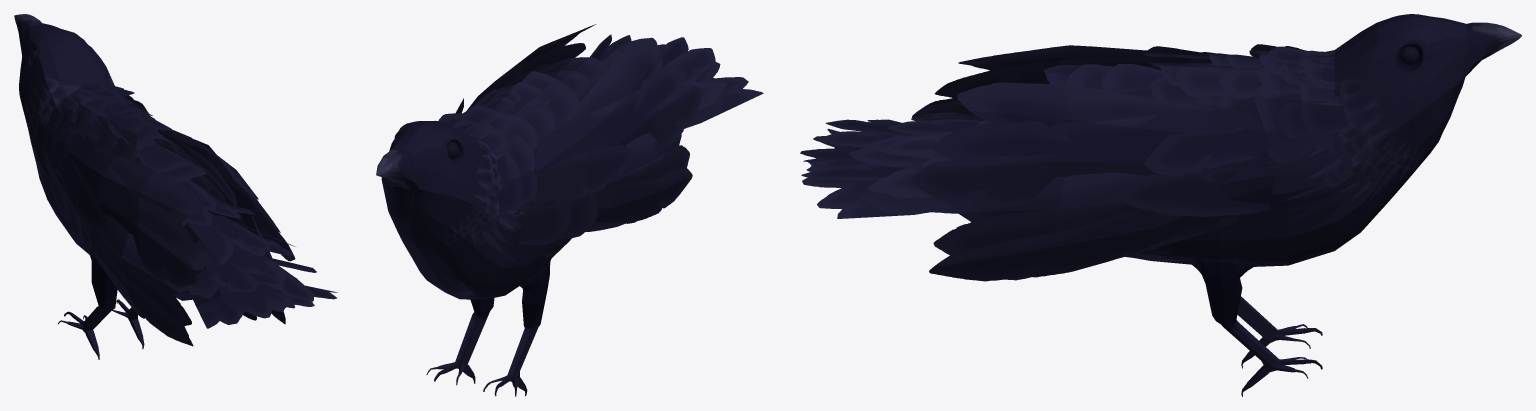
The model's file is crow_merged_2.fbx.
3 views of the same model, side by side, from view 1: azimuth 30°, elevation 25°; view 2: azimuth 150°, elevation 25°; view 3: azimuth 270°, elevation 25° (orthographic). The views are drawn at different scales.
Parts seen in each view (by area): view 1: Birb; view 2: Birb; view 3: Birb.
Part boxes in pixels (x1,y1,x2,y2): Birb: (14, 14, 337, 359); Birb: (376, 24, 763, 396); Birb: (800, 14, 1521, 396).
Bounding box in the file's own units: 148 × 273 × 494.
Materials: 1 (1 with a texture image).
